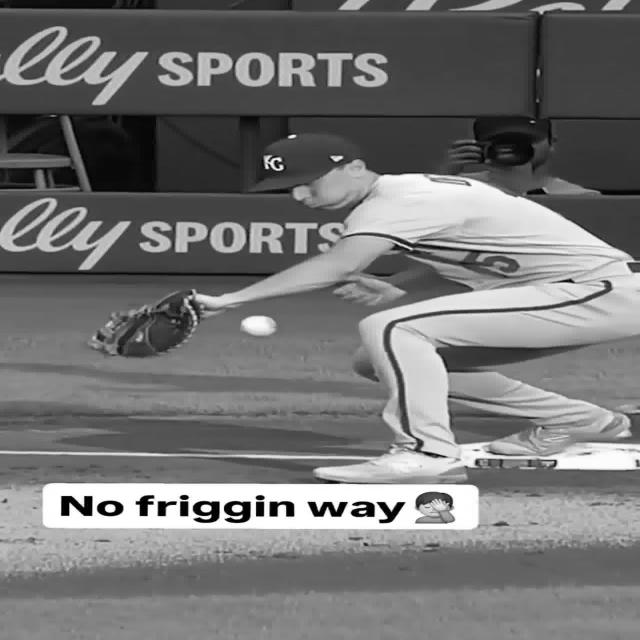base: (460, 442, 640, 470)
baseball: (240, 315, 276, 336)
baseball_glove: (87, 289, 200, 358)
shoe: (489, 412, 631, 456), (313, 445, 467, 484)
